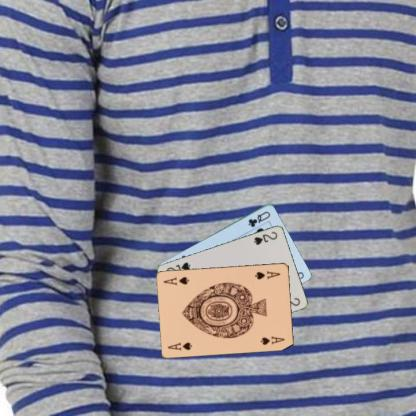2s: (251, 229, 278, 246)
As: (252, 268, 282, 280), (165, 340, 194, 351)
Qc: (245, 209, 272, 228)
